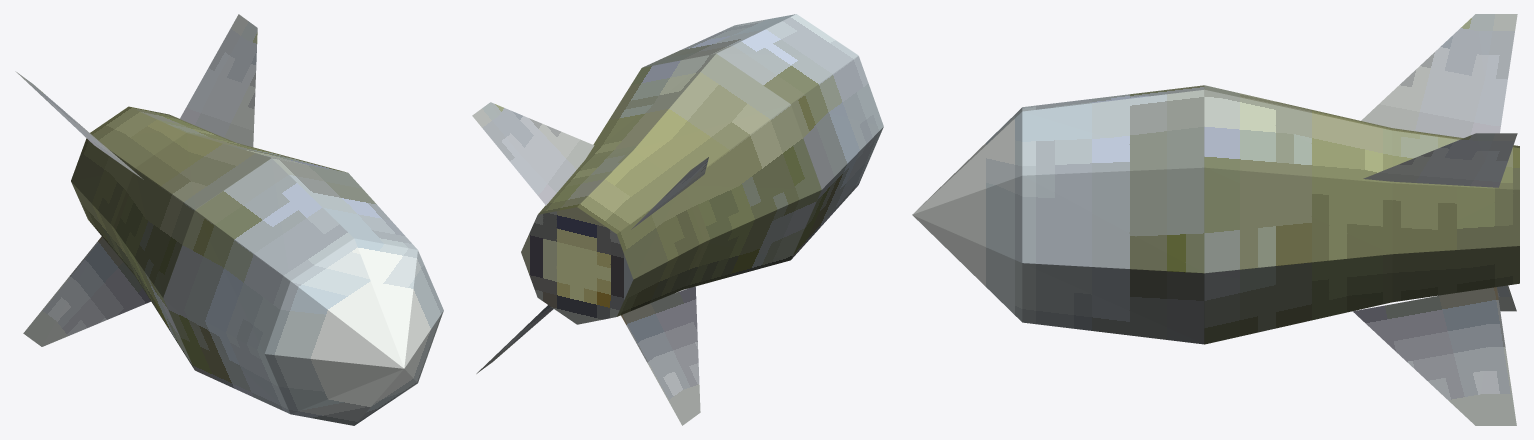
File: S_rocket.bgf.obj
3 renders of one model, left to right at view 1: azimuth 30°, elevation 25°; view 2: azimuth 150°, elevation 25°; view 3: azimuth 270°, elevation 25°, orthographic. The views are drawn at different scales.
Parts seen in each view (by area): view 1: DUMMY; view 2: DUMMY; view 3: DUMMY.
Boxes of the visible parts, x1,y1,x2,y2 form: DUMMY: [15, 14, 443, 425]; DUMMY: [472, 14, 883, 425]; DUMMY: [912, 14, 1519, 425].
Size of the model in its own units: 0.381 by 0.432 by 0.81.
1 material, 1 textured.
